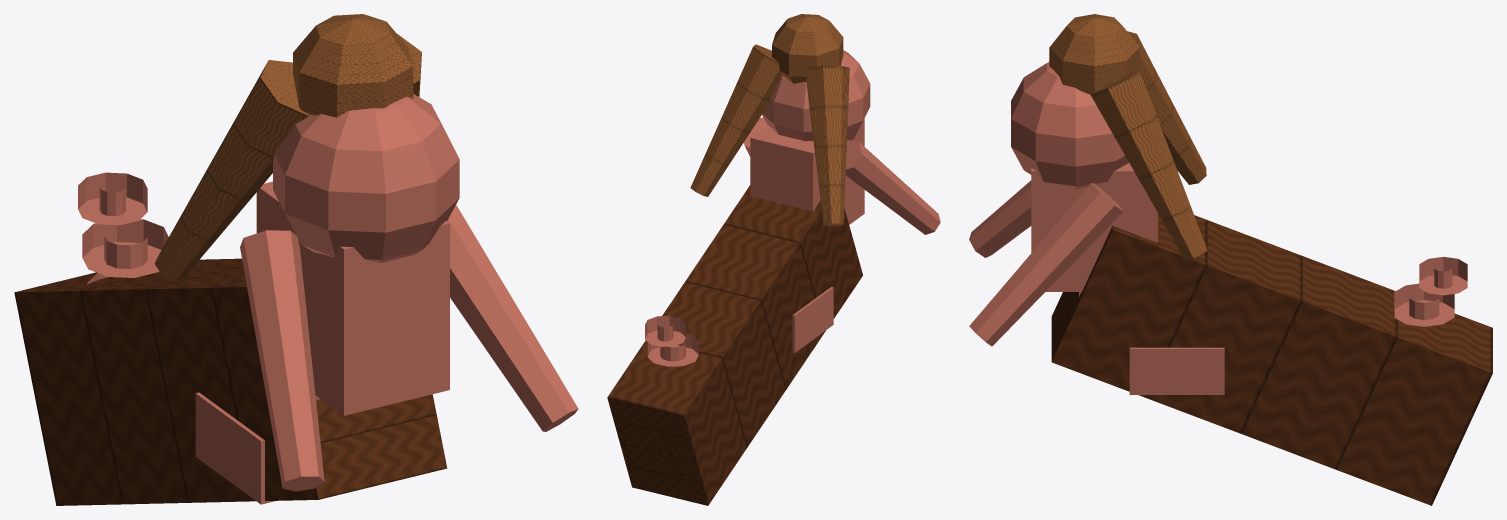
The model's file is pirate-port-and-tall-ships-carved-figurehead-d49ad564__30163.glb.
3 renders of one model, left to right at view 1: azimuth 30°, elevation 25°; view 2: azimuth 150°, elevation 25°; view 3: azimuth 270°, elevation 25°, orthographic. The views are drawn at different scales.
Parts seen in each view (by area): view 1: carved-figurehead; view 2: carved-figurehead; view 3: carved-figurehead.
Part boxes in pixels (box(x1,y1,x2,y2)): carved-figurehead: box(14, 14, 578, 505); carved-figurehead: box(607, 14, 940, 505); carved-figurehead: box(969, 14, 1492, 505).
Size of the model in its own units: 0.7747 by 1.62 by 1.65.
Materials: 3 (2 with a texture image).
